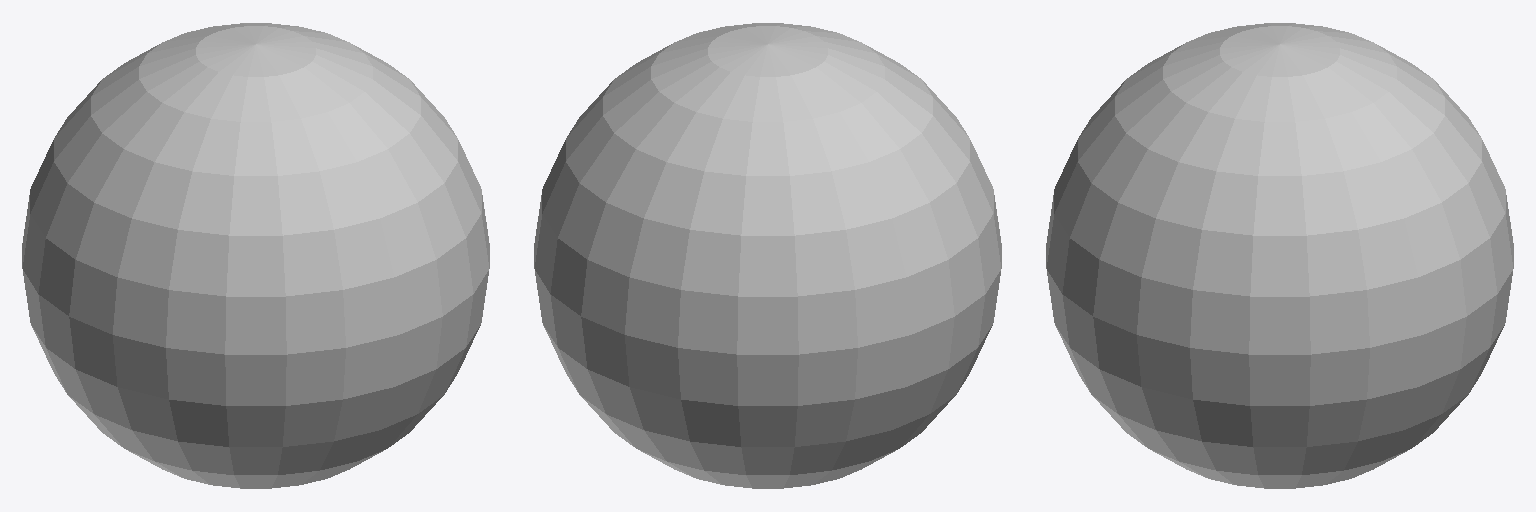
Rendered from ball.obj.
The picture shows the model from 3 angles: view 1: azimuth 30°, elevation 25°; view 2: azimuth 150°, elevation 25°; view 3: azimuth 270°, elevation 25°; orthographic projection.
Visible parts, largest first — view 1: sphere; view 2: sphere; view 3: sphere.
Boxes of the visible parts, box(x1,y1,x2,y2) form: sphere: box(22, 23, 489, 488); sphere: box(534, 23, 1001, 488); sphere: box(1046, 23, 1513, 488).
Size of the model in its own units: 1 by 1 by 1.